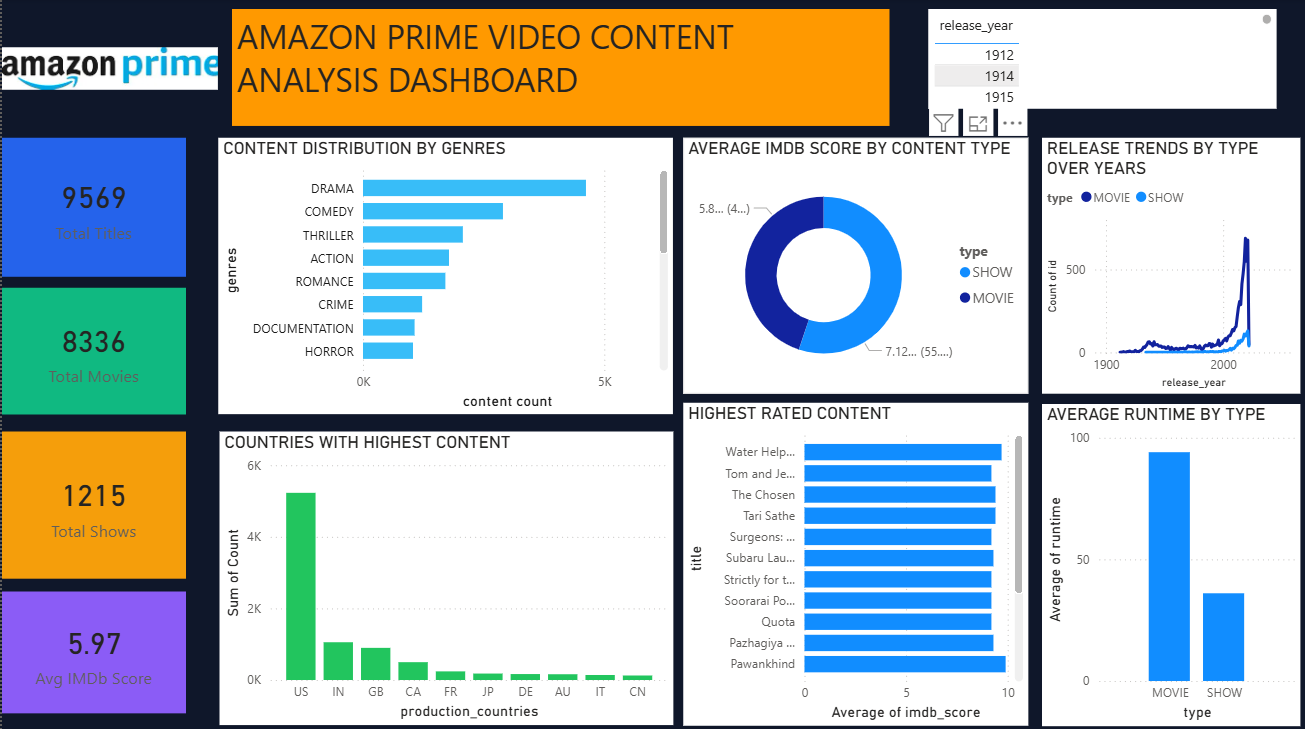

The dashboard page shown, as its layout file describes it:
{"tool":"powerbi","page":{"name":"Page 1","canvas":[1280,720],"ordinal":0},"visuals":[{"type":"textbox","box":[225.3,9.6,642.9,114],"z":0},{"type":"clusteredBarChart","title":"CONTENT DISTRIBUTION BY GENRES","fields":{"Category":["genres.genres"],"Y":["Sum(genres.Count)"]},"box":[211.5,136,445.1,270.6],"z":1000},{"type":"columnChart","title":"COUNTRIES WITH HIGHEST CONTENT","fields":{"Y":["Sum(production_countries.Count)"],"Category":["production_countries.production_countries"]},"box":[212.9,423.1,443.7,287.1],"z":2000},{"type":"donutChart","title":"AVERAGE IMDB SCORE BY CONTENT TYPE","fields":{"Category":["titles (1).type"],"Y":["titles (1).Avg IMDb Score"]},"box":[666.2,136,337.9,250],"z":3000},{"type":"card","title":"Total titles","fields":{"Values":["titles (1).Total Titles"]},"box":[0,136,180,136],"z":4000},{"type":"card","fields":{"Values":["titles (1).Total Shows"]},"box":[0,423.1,180,144.2],"z":5000},{"type":"card","fields":{"Values":["titles (1).Total Movies"]},"box":[0,283,180,123.6],"z":6000},{"type":"card","fields":{"Values":["titles (1).Avg IMDb Score"]},"box":[0,579.7,180,119.5],"z":7000},{"type":"image","box":[0,0,211.5,136],"z":8000},{"type":"clusteredBarChart","title":"HIGHEST RATED CONTENT","fields":{"Category":["titles (1).title"],"Y":["Avg(titles (1).imdb_score)"]},"box":[666.9,395.2,337.6,315.6],"z":9000},{"type":"tableEx","fields":{"Values":["titles (1).release_year"]},"box":[906.6,9.6,340.7,97.5],"z":10000},{"type":"lineChart","title":"RELEASE TRENDS BY TYPE OVER YEARS","fields":{"Series":["titles (1).type"],"Y":["CountNonNull(titles (1).id)"],"Category":["titles (1).release_year"]},"box":[1017.9,136,252.8,250],"z":11000},{"type":"clusteredColumnChart","title":"AVERAGE RUNTIME BY TYPE","fields":{"Category":["titles (1).type"],"Y":["Avg(titles (1).runtime)"]},"box":[1018,396,253,315],"z":12000}]}

Visuals, with their boxes in screenshot pixels (x1, y1, x2, y2), scaled from the page's 1280x720 canvas onto the 1305x729 screenshot:
textbox: (x1=230, y1=10, x2=885, y2=125)
"CONTENT DISTRIBUTION BY GENRES" clusteredBarChart: (x1=216, y1=138, x2=669, y2=412)
"COUNTRIES WITH HIGHEST CONTENT" columnChart: (x1=217, y1=428, x2=669, y2=719)
"AVERAGE IMDB SCORE BY CONTENT TYPE" donutChart: (x1=679, y1=138, x2=1024, y2=391)
"Total titles" card: (x1=0, y1=138, x2=184, y2=275)
card - titles (1).Total Shows: (x1=0, y1=428, x2=184, y2=574)
card - titles (1).Total Movies: (x1=0, y1=287, x2=184, y2=412)
card - titles (1).Avg IMDb Score: (x1=0, y1=587, x2=184, y2=708)
image: (x1=0, y1=0, x2=216, y2=138)
"HIGHEST RATED CONTENT" clusteredBarChart: (x1=680, y1=400, x2=1024, y2=720)
tableEx - titles (1).release_year: (x1=924, y1=10, x2=1272, y2=108)
"RELEASE TRENDS BY TYPE OVER YEARS" lineChart: (x1=1038, y1=138, x2=1296, y2=391)
"AVERAGE RUNTIME BY TYPE" clusteredColumnChart: (x1=1038, y1=401, x2=1296, y2=720)
